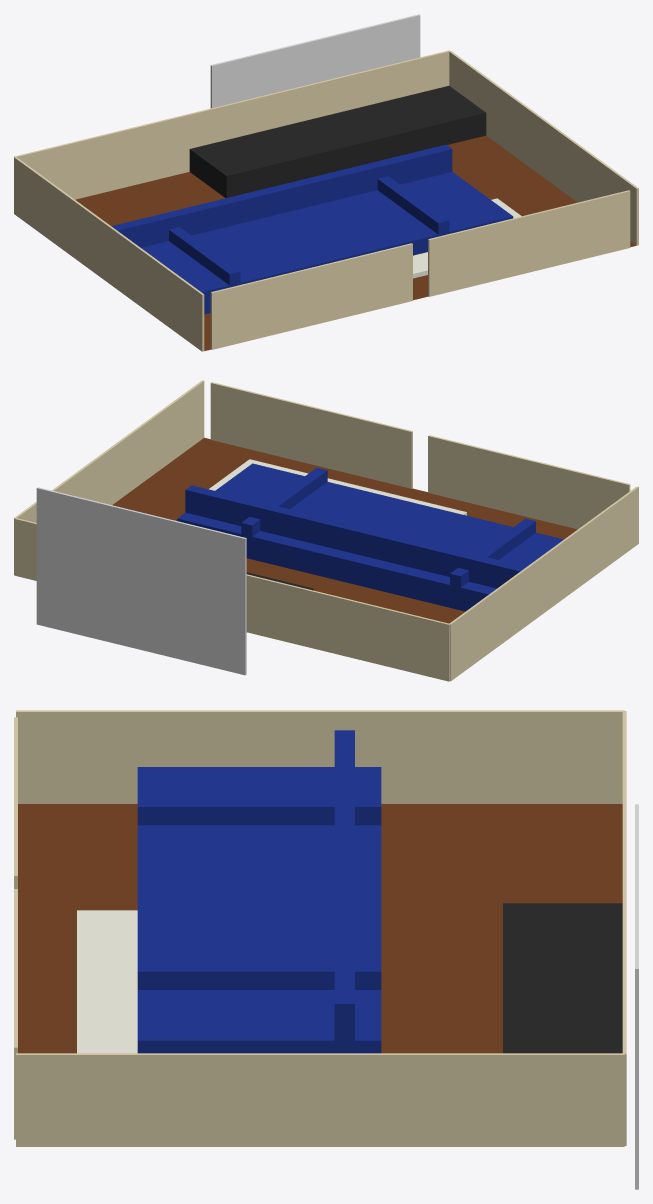
Rendered from boq_professional_df95aece-55aa-432b-8dc3-f6399047afd4.obj.
3 renders of one model, top to bottom at view 1: azimuth 30°, elevation 25°; view 2: azimuth 150°, elevation 25°; view 3: azimuth 270°, elevation 25°, orthographic. The views are drawn at different scales.
Parts seen in each view (by area): view 1: BackWall_mansion_living_room, SofaBody_mansion_living_room, TVStand_mansion_living_room, FrontWallLeft_mansion_living_room, FrontWallRight_mansion_living_room, LeftWall_mansion_living_room, Floor_mansion_living_room, TVScreen_mansion_living_room, SofaBackrest_mansion_living_room, RightWall_mansion_living_room, SofaArmrest1_mansion_living_room, SofaArmrest2_mansion_living_room (+1 smaller); view 2: TVScreen_mansion_living_room, SofaBody_mansion_living_room, BackWall_mansion_living_room, FrontWallRight_mansion_living_room, Floor_mansion_living_room, LeftWall_mansion_living_room, FrontWallLeft_mansion_living_room, SofaBackrest_mansion_living_room, RightWall_mansion_living_room, SofaArmrest1_mansion_living_room, SofaArmrest2_mansion_living_room, CoffeeTableTop_mansion_living_room; view 3: Floor_mansion_living_room, RightWall_mansion_living_room, SofaBody_mansion_living_room, LeftWall_mansion_living_room, TVStand_mansion_living_room, CoffeeTableTop_mansion_living_room, SofaBackrest_mansion_living_room, SofaArmrest1_mansion_living_room, SofaArmrest2_mansion_living_room, BackWall_mansion_living_room, TVScreen_mansion_living_room, FrontWallRight_mansion_living_room (+1 smaller).
Part boxes in pixels (box(x1,y1,x2,y2)): BackWall_mansion_living_room: box(14, 50, 449, 199); SofaBody_mansion_living_room: box(141, 172, 513, 314); TVStand_mansion_living_room: box(189, 86, 486, 197); FrontWallLeft_mansion_living_room: box(210, 243, 412, 349); FrontWallRight_mansion_living_room: box(428, 190, 630, 296); LeftWall_mansion_living_room: box(14, 156, 204, 351); Floor_mansion_living_room: box(75, 135, 636, 350); TVScreen_mansion_living_room: box(210, 14, 420, 108); SofaBackrest_mansion_living_room: box(111, 144, 452, 247); RightWall_mansion_living_room: box(449, 50, 638, 245); SofaArmrest1_mansion_living_room: box(169, 227, 240, 286); SofaArmrest2_mansion_living_room: box(377, 176, 449, 234); TVScreen_mansion_living_room: box(36, 487, 246, 675); SofaBody_mansion_living_room: box(177, 463, 563, 611); BackWall_mansion_living_room: box(14, 518, 449, 681); FrontWallRight_mansion_living_room: box(210, 382, 412, 488); Floor_mansion_living_room: box(112, 437, 577, 623); LeftWall_mansion_living_room: box(449, 486, 638, 681); FrontWallLeft_mansion_living_room: box(428, 435, 630, 529); SofaBackrest_mansion_living_room: box(185, 485, 525, 588); RightWall_mansion_living_room: box(14, 380, 204, 574); SofaArmrest1_mansion_living_room: box(450, 518, 535, 598); SofaArmrest2_mansion_living_room: box(241, 468, 327, 547); CoffeeTableTop_mansion_living_room: box(209, 459, 466, 515); Floor_mansion_living_room: box(18, 804, 622, 1053); RightWall_mansion_living_room: box(16, 1053, 624, 1146); SofaBody_mansion_living_room: box(137, 767, 381, 1053); LeftWall_mansion_living_room: box(16, 710, 624, 803); TVStand_mansion_living_room: box(503, 903, 622, 1053); CoffeeTableTop_mansion_living_room: box(77, 910, 137, 1053); SofaBackrest_mansion_living_room: box(334, 730, 354, 1052); SofaArmrest1_mansion_living_room: box(137, 798, 381, 825); SofaArmrest2_mansion_living_room: box(137, 963, 381, 989); BackWall_mansion_living_room: box(622, 711, 626, 1145); TVScreen_mansion_living_room: box(635, 804, 638, 1189); FrontWallRight_mansion_living_room: box(14, 889, 17, 1139).
Size of the model in its own units: 40.2 by 12 by 30.8.
